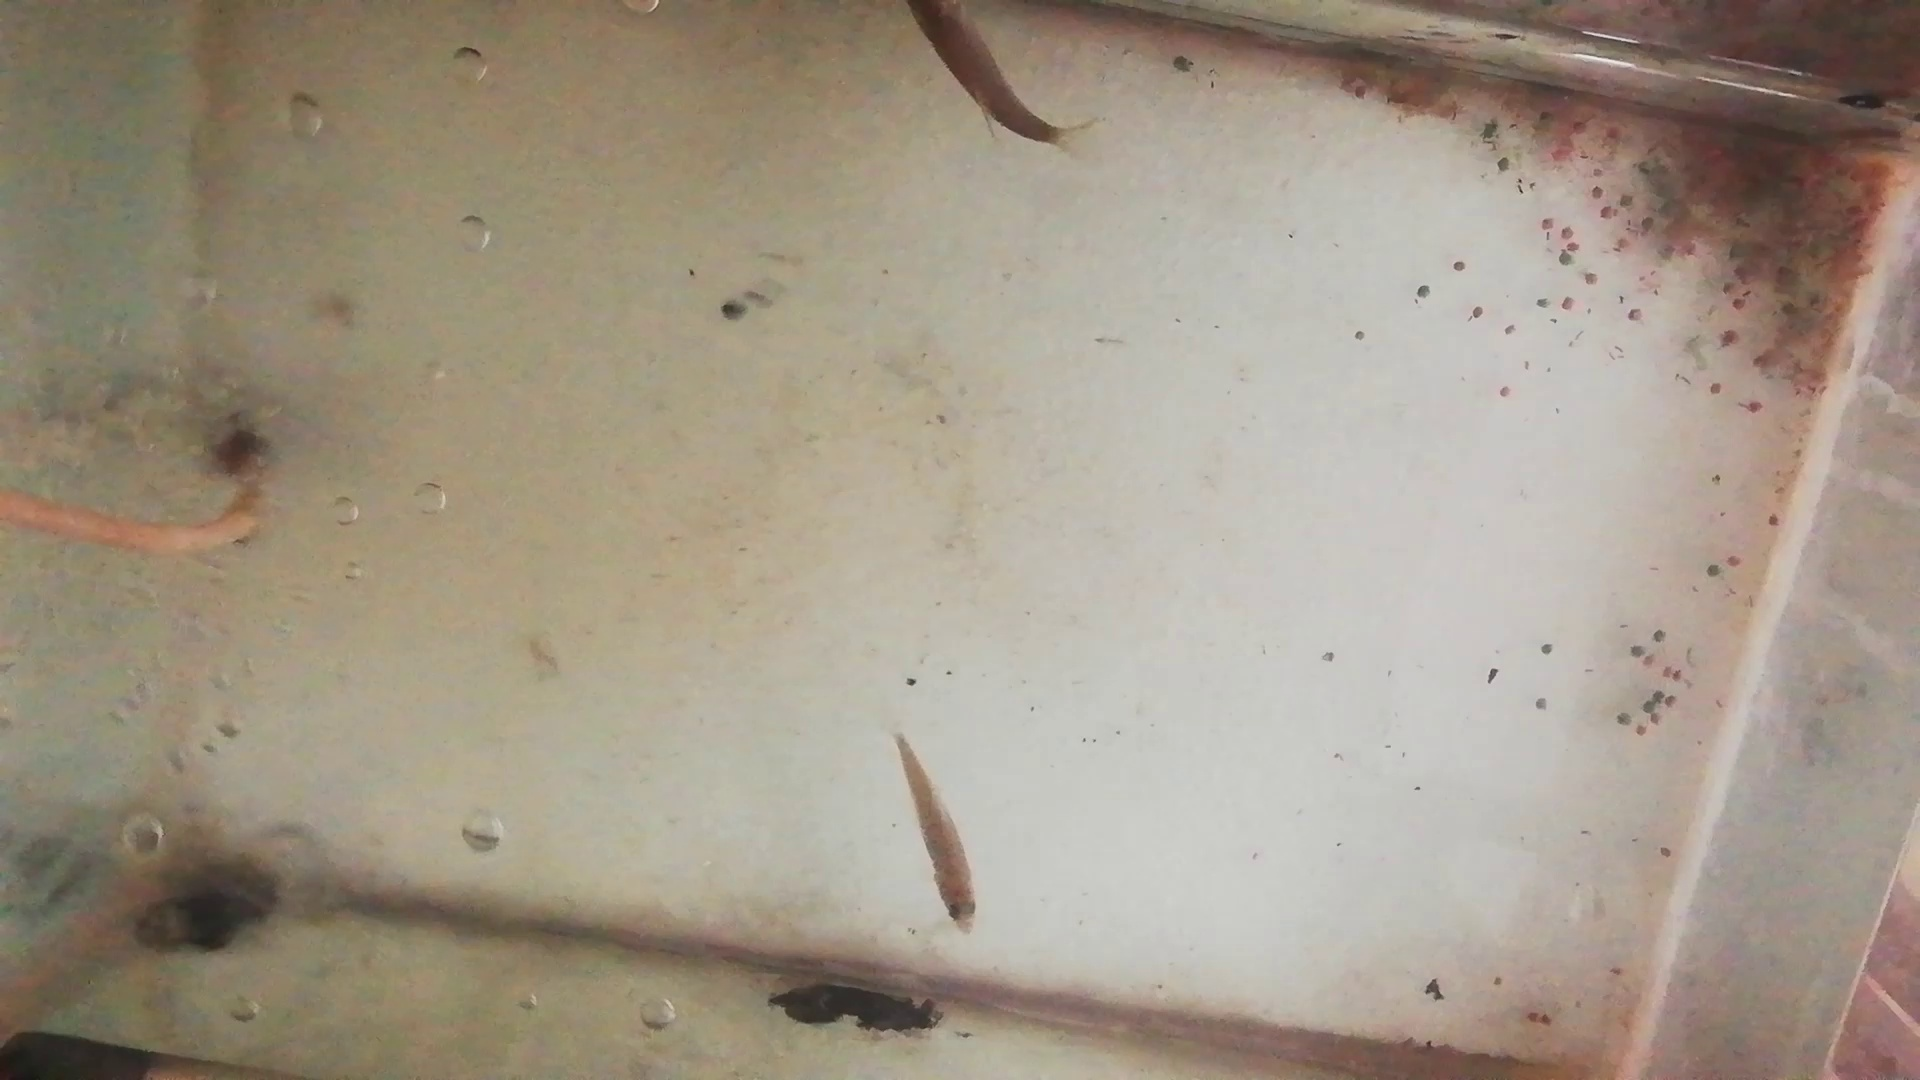fish: (907, 3, 1058, 148), (895, 738, 978, 930)
